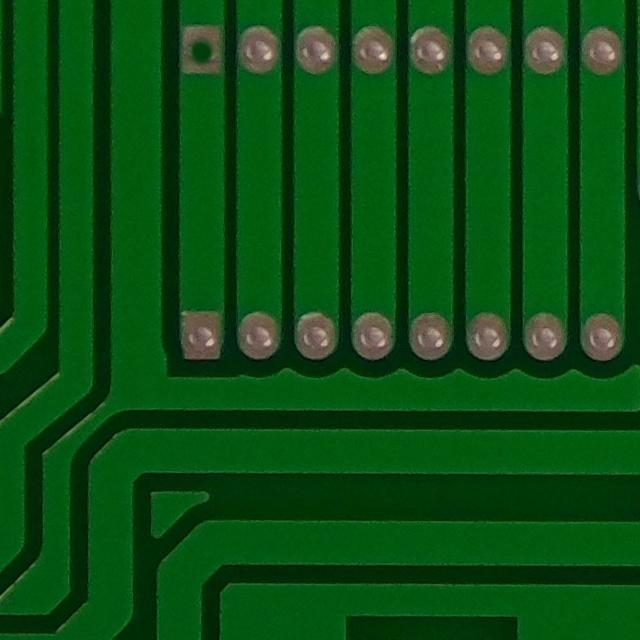missing_hole: (171, 6, 235, 93)
